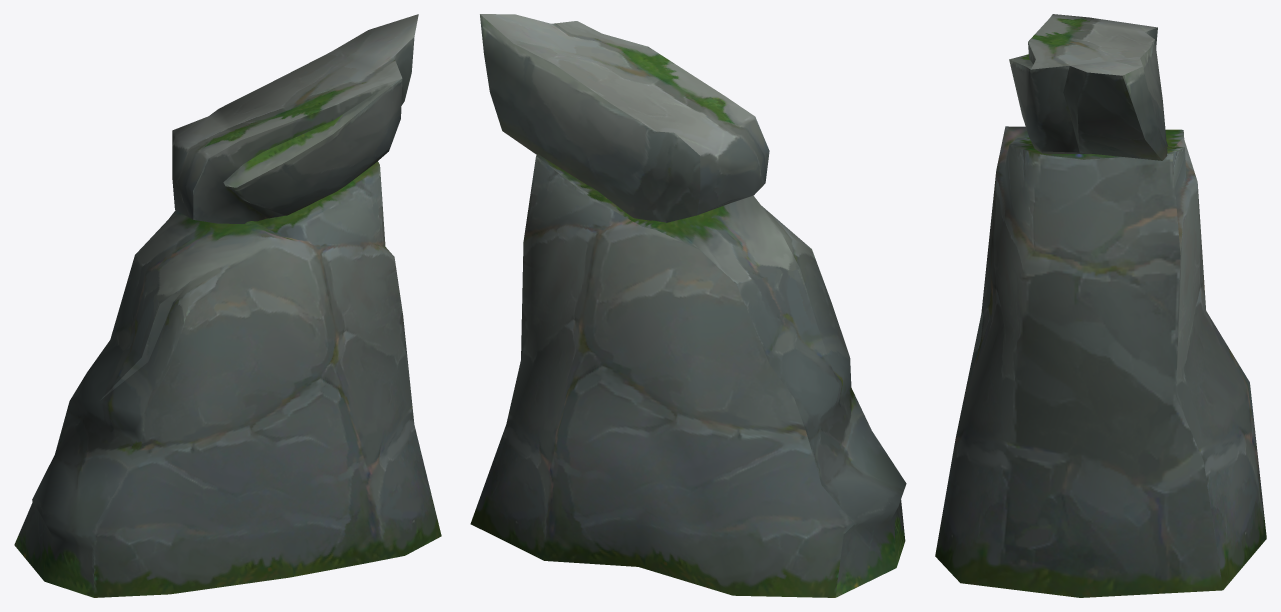
File: scene_luoliante_strone01.FBX
3 views of the same model, side by side, from view 1: azimuth 30°, elevation 25°; view 2: azimuth 150°, elevation 25°; view 3: azimuth 270°, elevation 25° (orthographic). The views are drawn at different scales.
Parts seen in each view (by area): view 1: scene_luoliante_strone01; view 2: scene_luoliante_strone01; view 3: scene_luoliante_strone01.
Boxes of the visible parts, x1,y1,x2,y2 form: scene_luoliante_strone01: [14, 14, 441, 597]; scene_luoliante_strone01: [470, 14, 906, 597]; scene_luoliante_strone01: [935, 14, 1266, 597].
Bounding box in the file's own units: 671 × 753 × 424.
